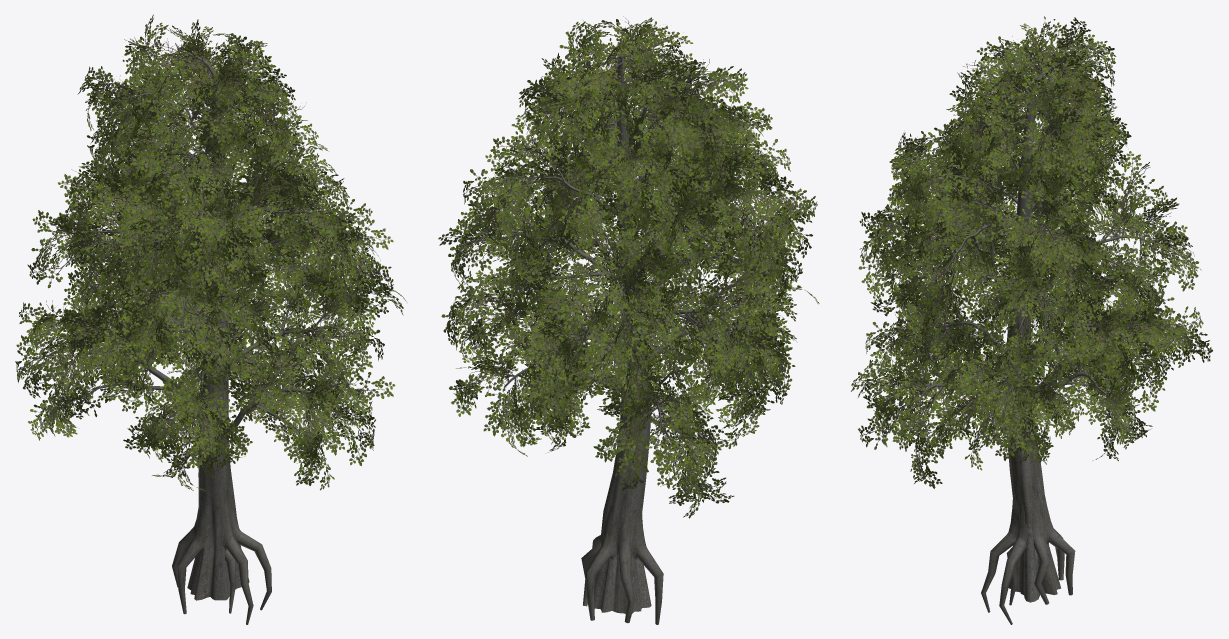
The model's file is linden_tree.glb.
3 views of the same model, side by side, from view 1: azimuth 30°, elevation 25°; view 2: azimuth 150°, elevation 25°; view 3: azimuth 270°, elevation 25° (orthographic). The views are drawn at different scales.
Parts seen in each view (by area): view 1: Linden_LOD0_M_Branch.005_0, Linden_LOD0_M_Bark.005_0; view 2: Linden_LOD0_M_Branch.005_0, Linden_LOD0_M_Bark.005_0; view 3: Linden_LOD0_M_Branch.005_0, Linden_LOD0_M_Bark.005_0.
Part boxes in pixels (x1=…): Linden_LOD0_M_Branch.005_0: x1=15, y1=14, x2=406, y2=491; Linden_LOD0_M_Bark.005_0: x1=33, y1=37, x2=373, y2=624; Linden_LOD0_M_Branch.005_0: x1=438, y1=16, x2=819, y2=518; Linden_LOD0_M_Bark.005_0: x1=452, y1=40, x2=783, y2=624; Linden_LOD0_M_Branch.005_0: x1=851, y1=16, x2=1212, y2=488; Linden_LOD0_M_Bark.005_0: x1=869, y1=42, x2=1191, y2=624.
Size of the model in its own units: 10.12 by 18.04 by 10.4.
Materials: 2 (2 with a texture image).
